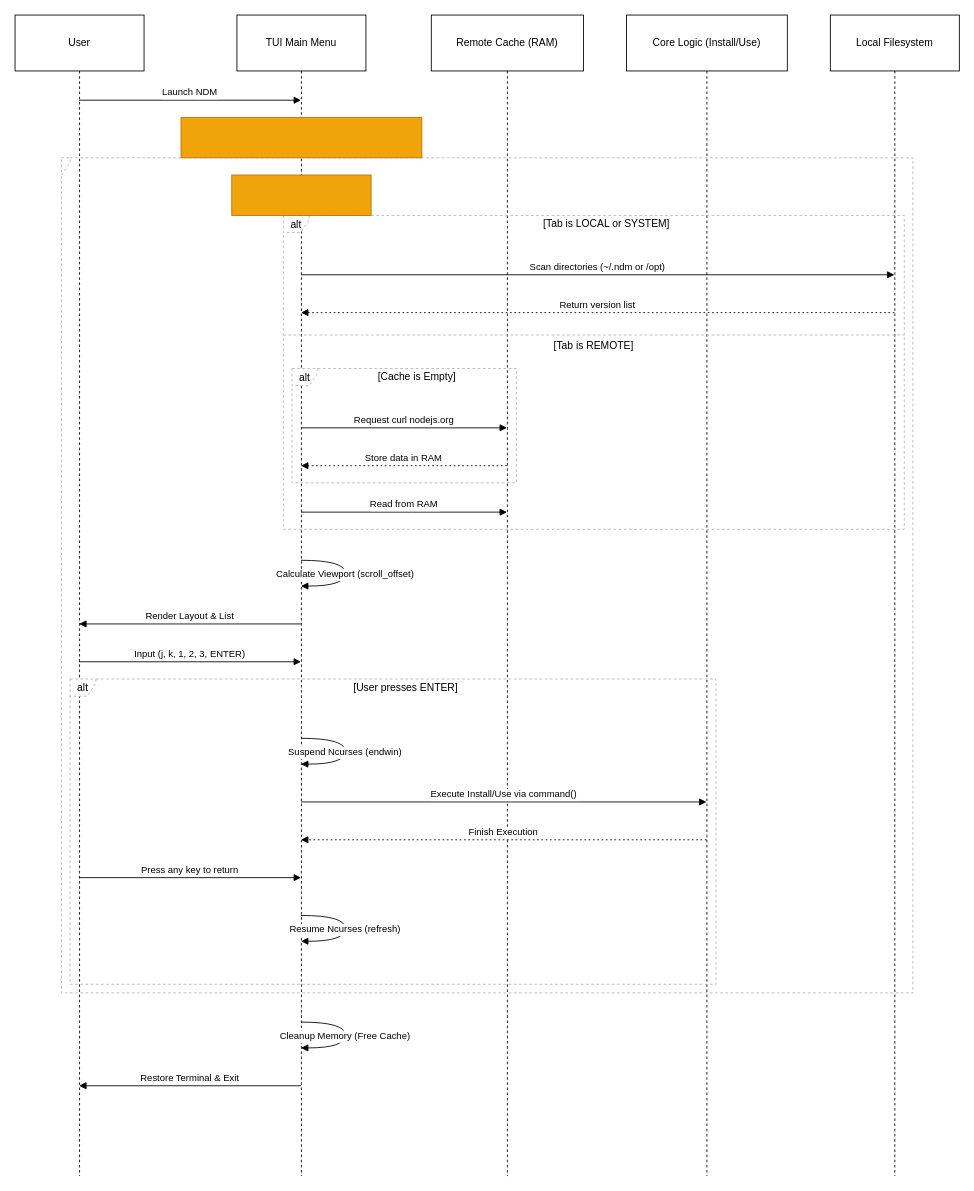
Image size: 974x1191. Some labels were removed from this diagram. Here are the shapes that lost their labels. From the top down, the box of each, then its label:
(180, 117, 422, 158): Init Ncurses (Raw, NoEcho, Keypad)
(231, 174, 371, 215): Start While(running)
